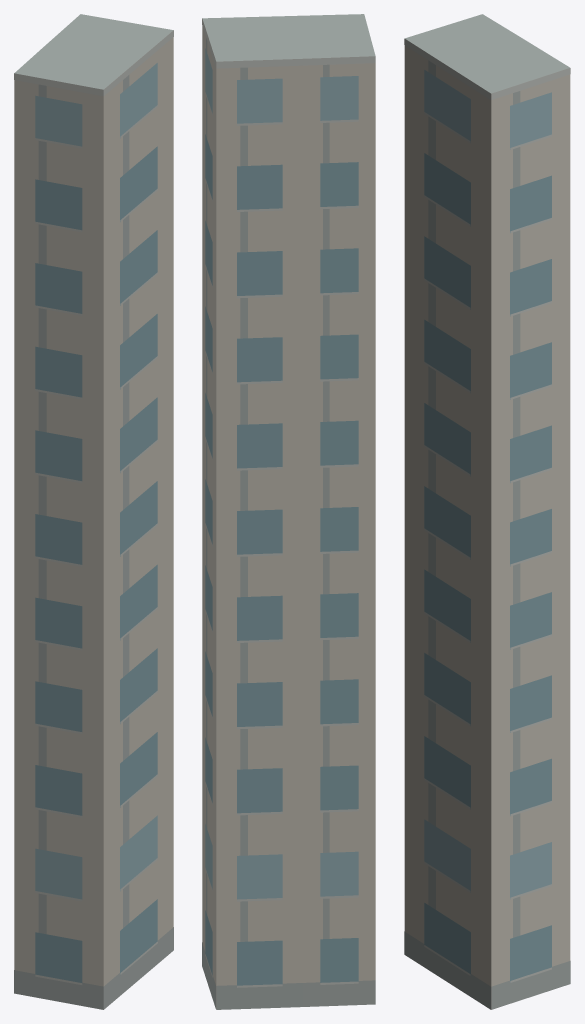
File: survey-upis-33005586.glb
3 views of the same model, side by side, from view 1: azimuth 30°, elevation 25°; view 2: azimuth 150°, elevation 25°; view 3: azimuth 270°, elevation 25° (orthographic). The views are drawn at different scales.
Visible parts, largest first — view 1: survey-upis-33005586.tmp; view 2: survey-upis-33005586.tmp; view 3: survey-upis-33005586.tmp.
Boxes of the visible parts, box(x1,y1,x2,y2) form: survey-upis-33005586.tmp: box(14, 14, 173, 1009); survey-upis-33005586.tmp: box(202, 14, 375, 1009); survey-upis-33005586.tmp: box(404, 14, 570, 1009).
Bounding box in the file's own units: 6.26 × 33.55 × 5.51.
